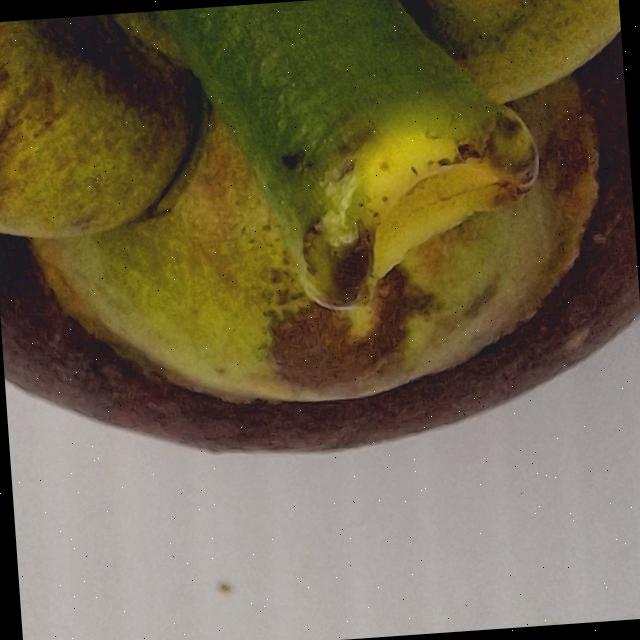mangosteen: (0, 0, 640, 506)
